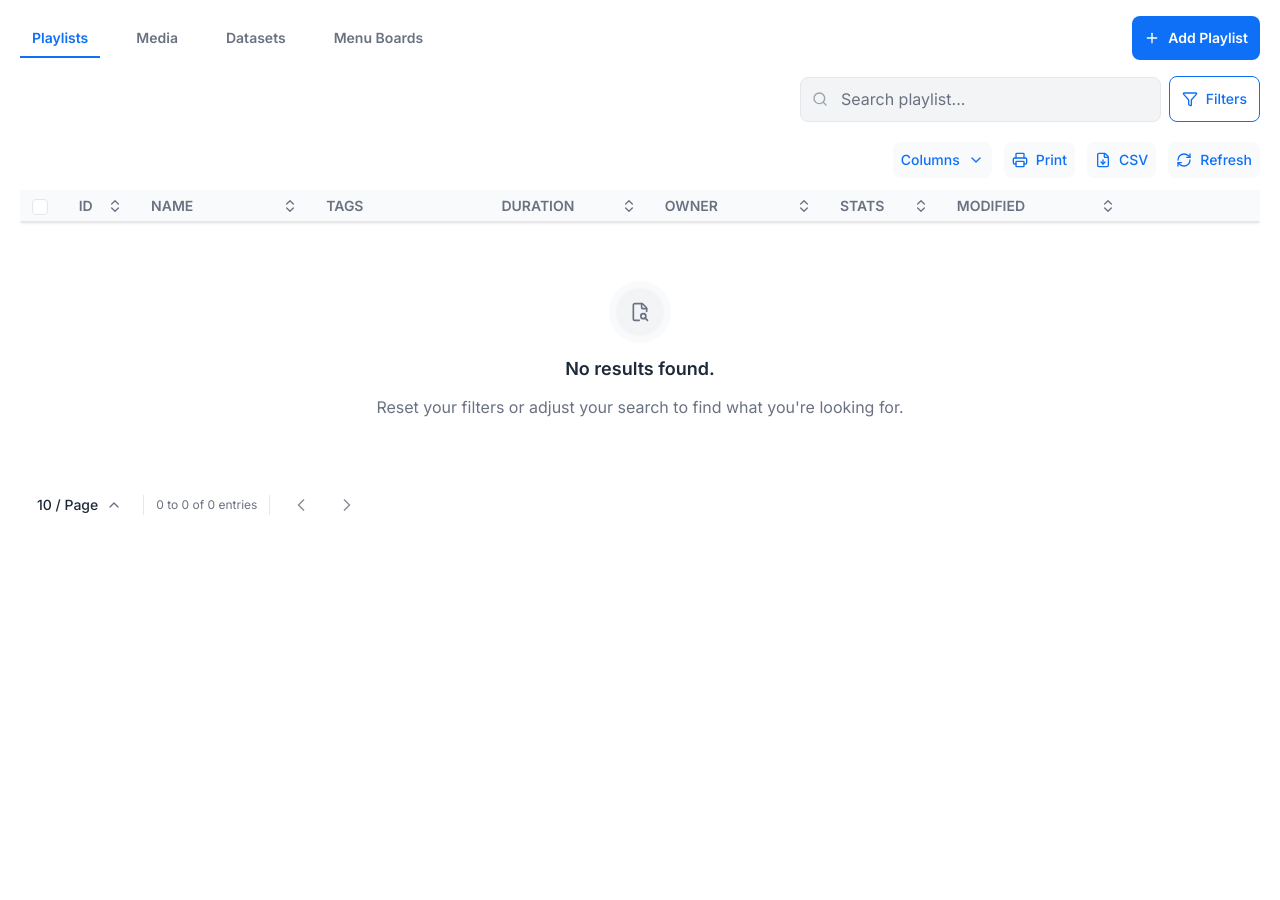
Playlists page - search and pagination › clicking the Filters button opens the filter panel
Click the button "Filters". click: (1214,99)
box: [1169, 76, 1260, 122]
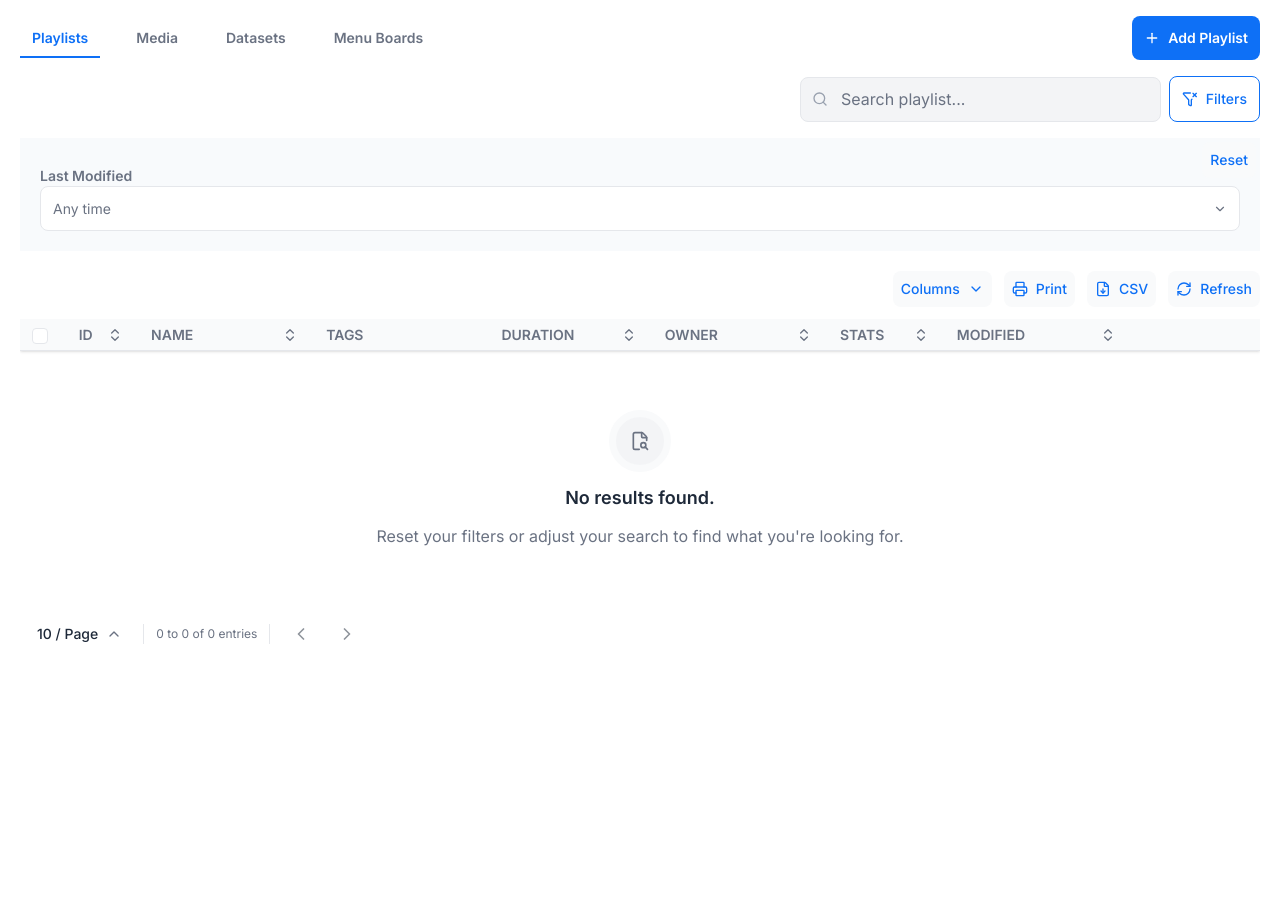
Expected: the button "Reset" is shown, [1202, 142, 1256, 178]
